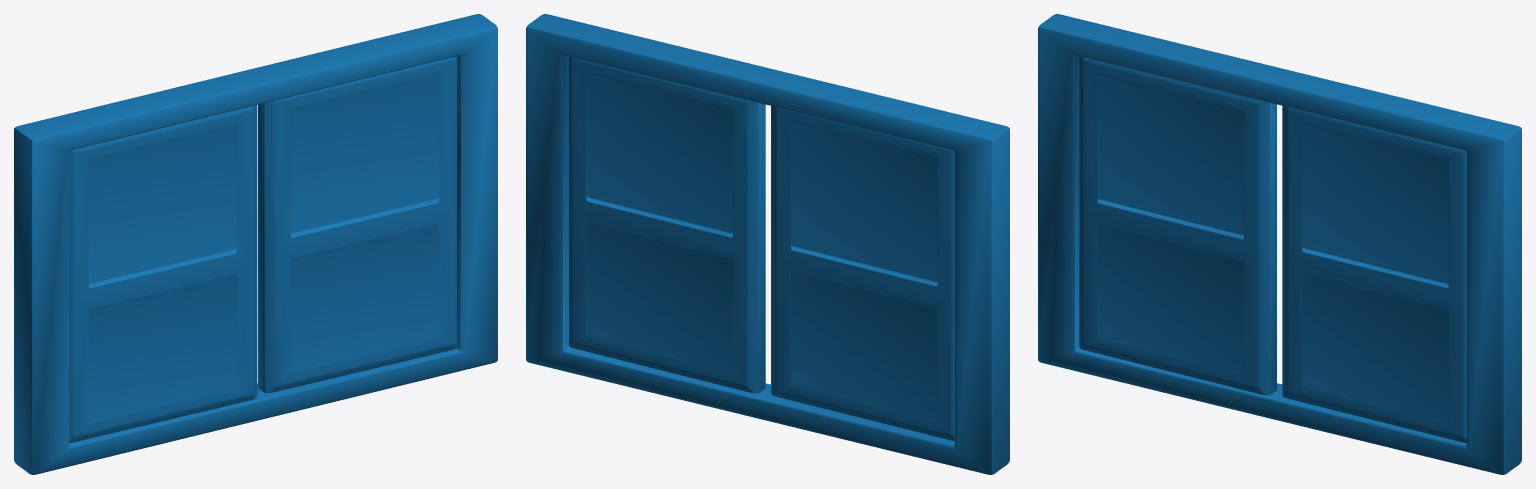
File: window 2 side.fbx
3 renders of one model, left to right at view 1: azimuth 30°, elevation 25°; view 2: azimuth 150°, elevation 25°; view 3: azimuth 330°, elevation 25°, orthographic.
Parts seen in each view (by area): view 1: window 2, Window frame, Window 1; view 2: Window frame, window 2, Window 1; view 3: Window 1, Window frame, window 2.
Part boxes in pixels (x1,y1,x2,y2): window 2: (258, 56, 456, 393); Window frame: (14, 14, 497, 474); Window 1: (69, 105, 257, 442); Window frame: (526, 14, 1009, 474); window 2: (569, 56, 765, 393); Window 1: (771, 106, 954, 441); Window 1: (1079, 56, 1276, 395); Window frame: (1038, 14, 1521, 474); window 2: (1282, 105, 1466, 443).
Size of the model in its own units: 160 by 110 by 11.47.
